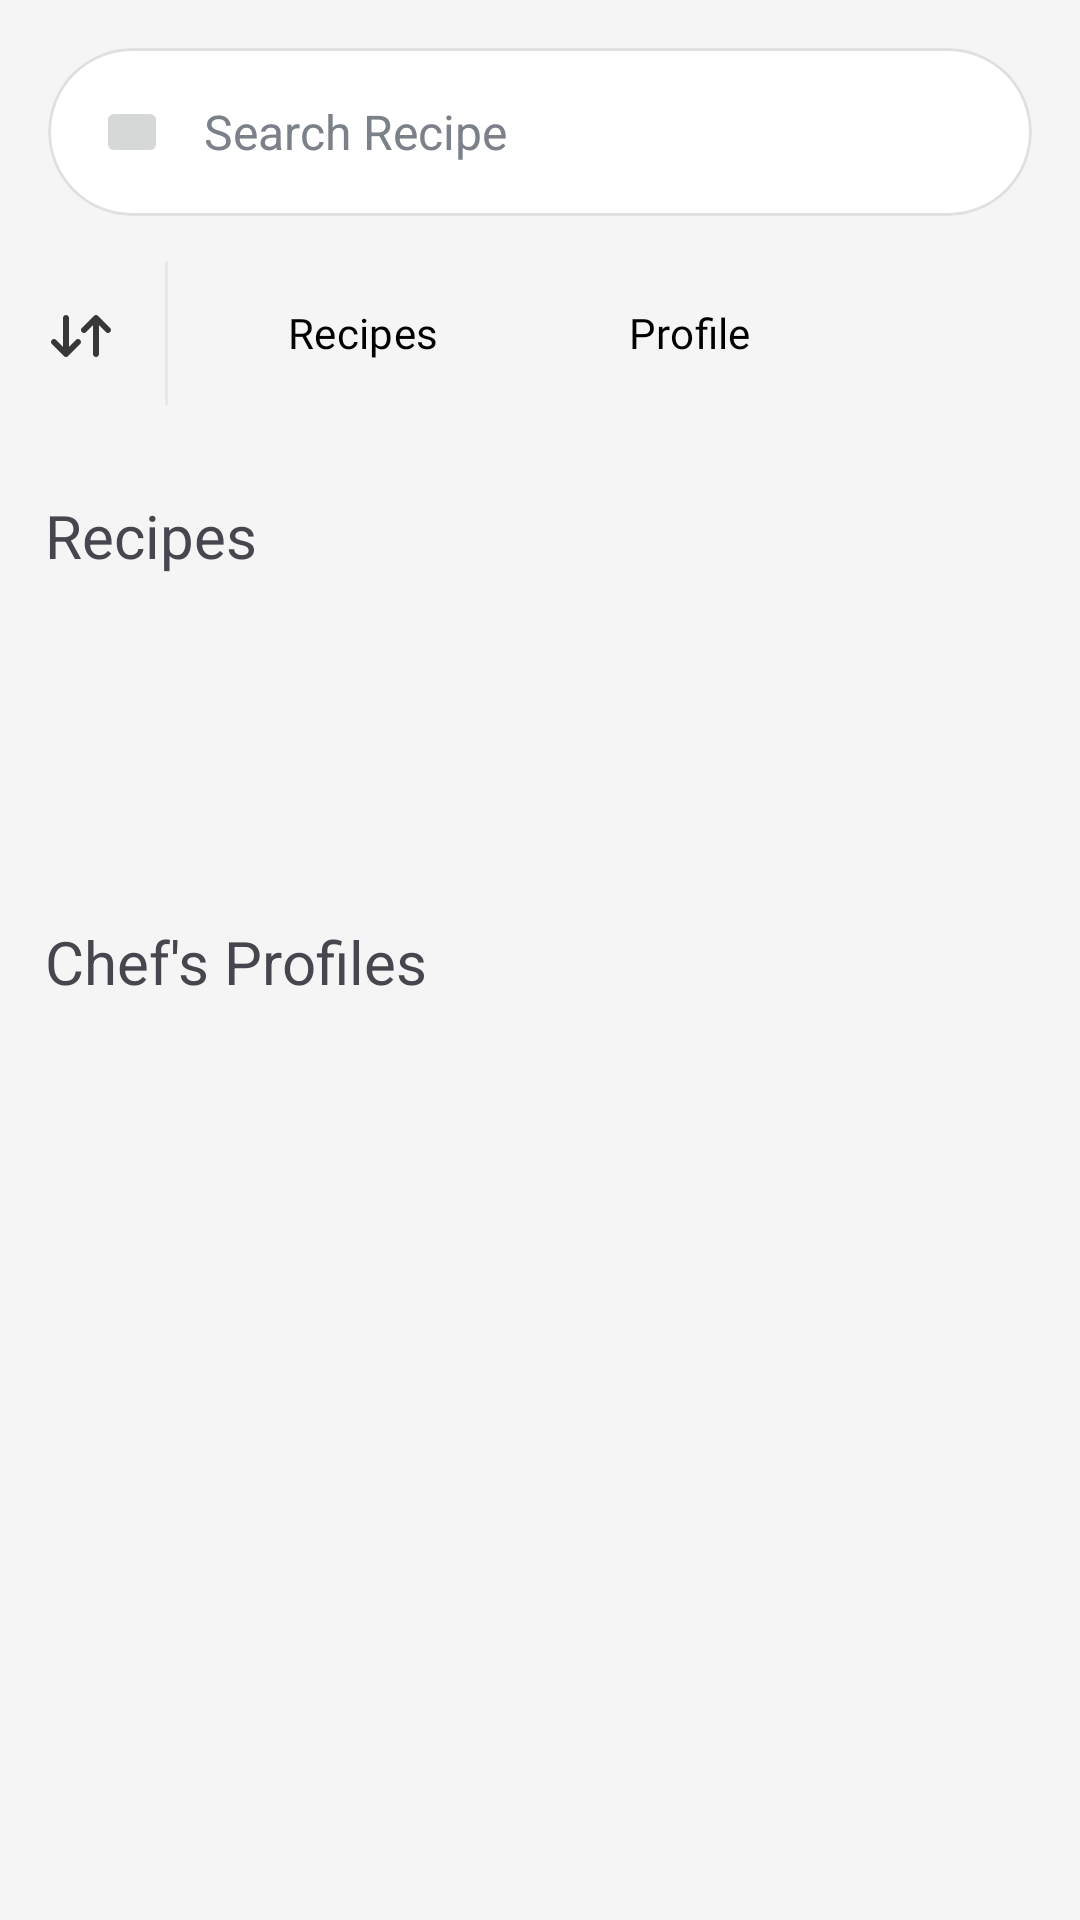

Point at icon controls on the screen. Image size 1080x1920, points as [x,y].
Sort Results: [81,336]
